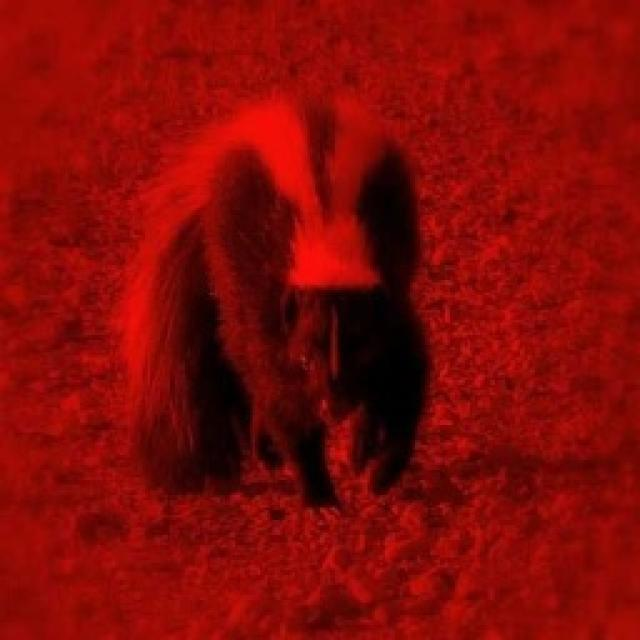not_pig: (112, 88, 430, 510)
